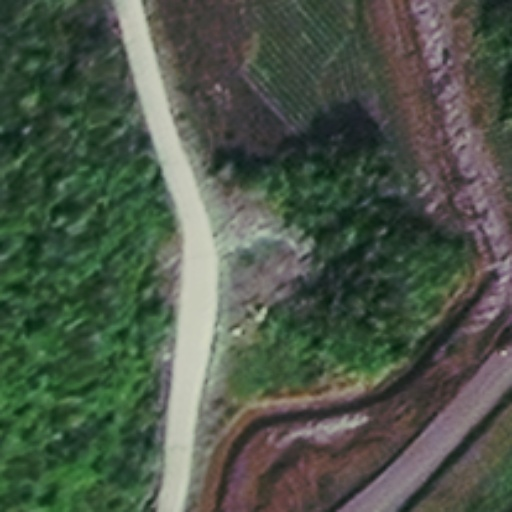landslide: (209, 182, 319, 331)
